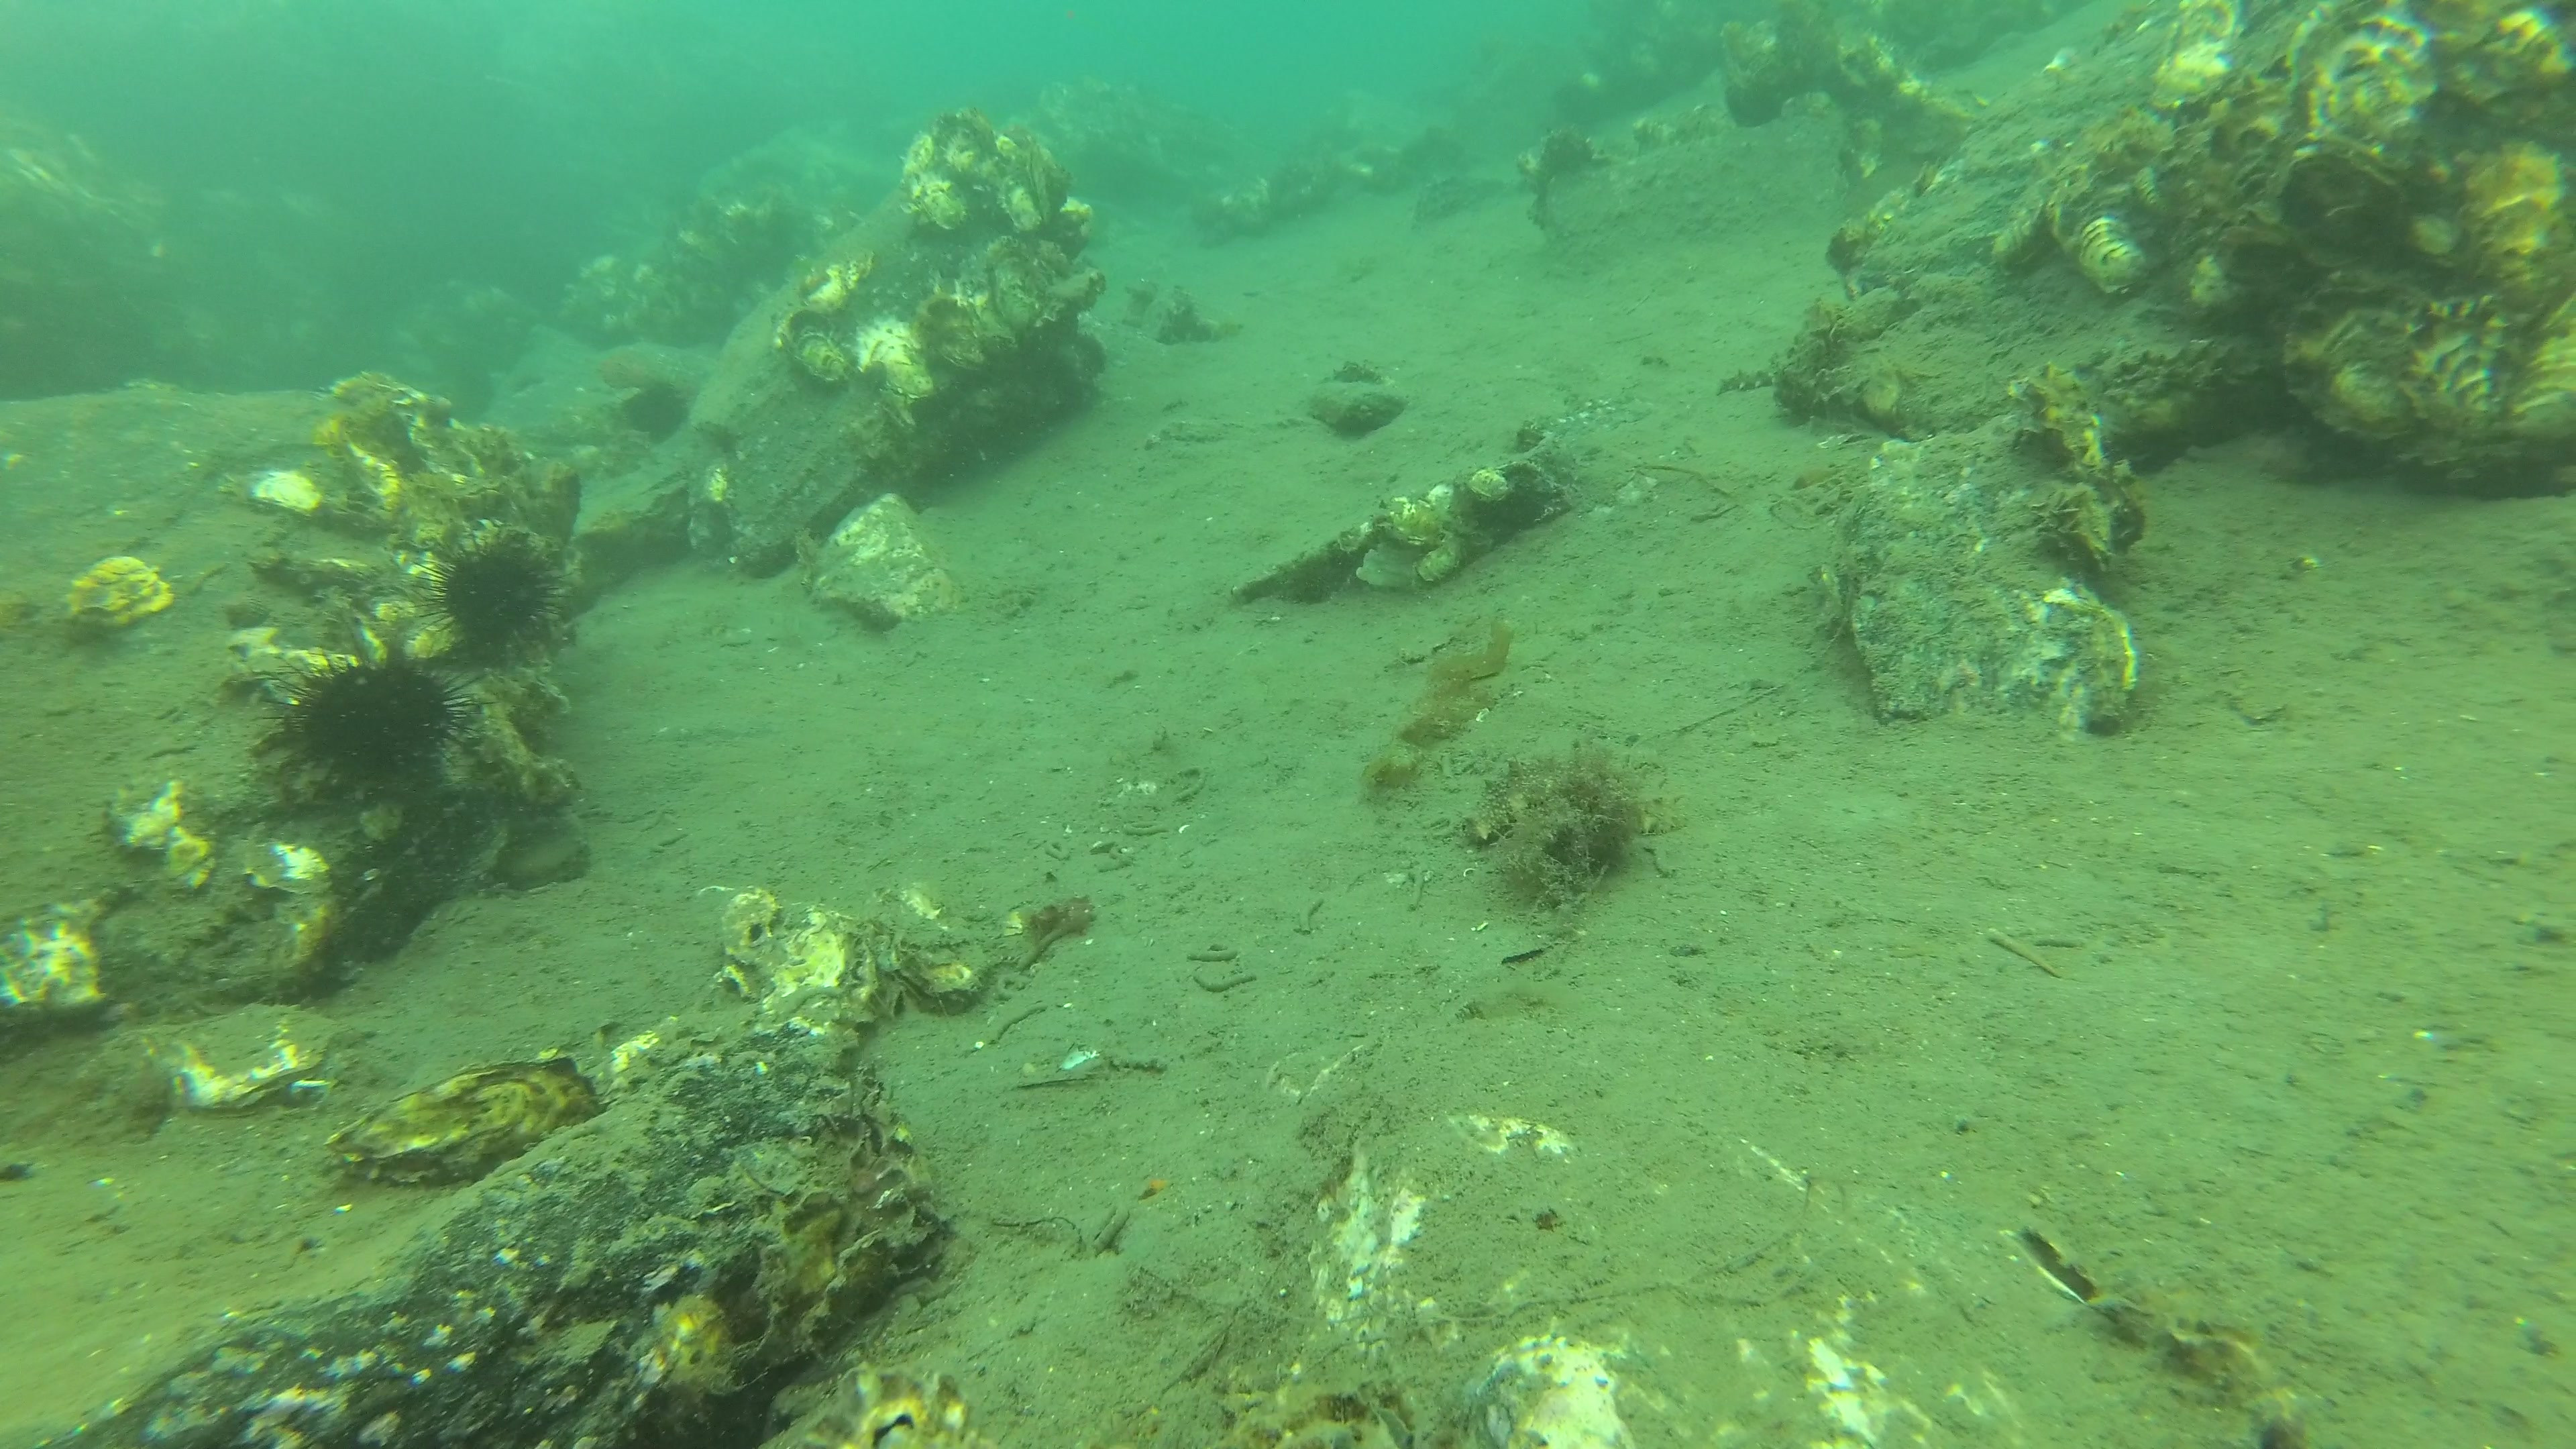echinus: (262, 640, 481, 805), (412, 527, 580, 649)
